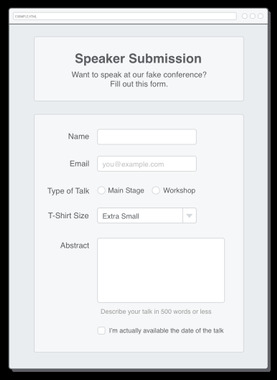_form_: (1, 1, 277, 380)
checkbox: (96, 324, 107, 335)
checkbox_with_label: (95, 322, 223, 336)
field: (95, 237, 225, 305), (95, 206, 199, 224), (97, 128, 199, 146), (96, 154, 198, 172)
field_with_label: (59, 236, 227, 306), (48, 205, 200, 225), (68, 127, 201, 147), (69, 153, 199, 173)
radio: (150, 184, 161, 196), (97, 184, 107, 195)
radio_with_label: (95, 182, 145, 197), (148, 182, 197, 197)
